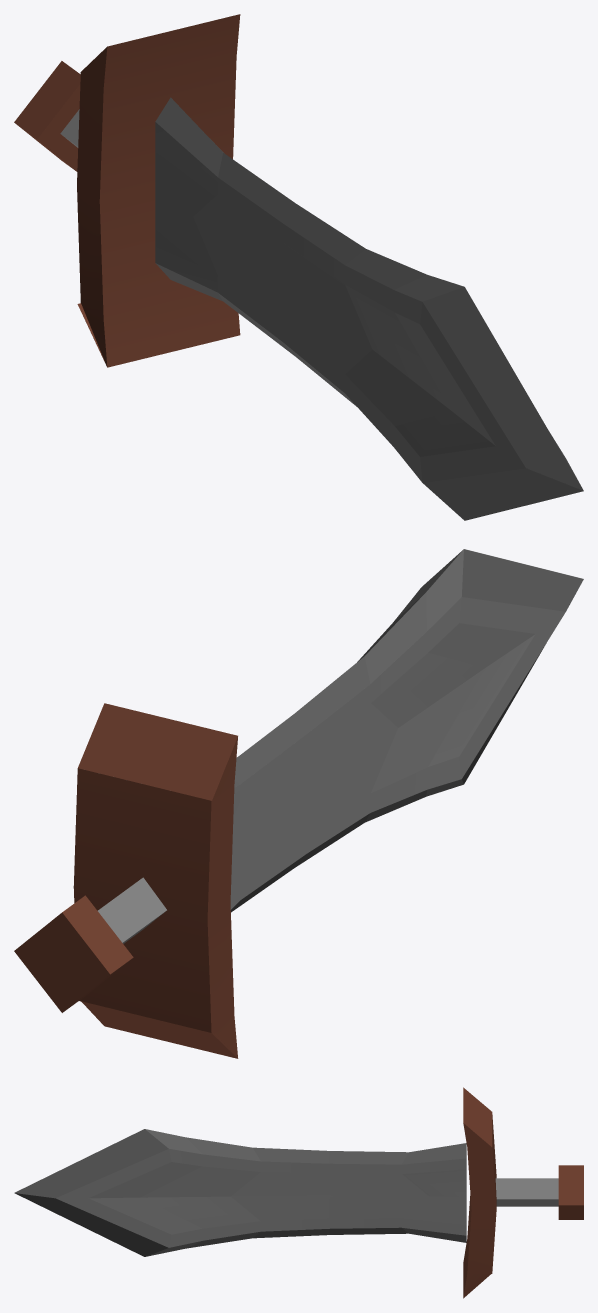
Rendered from Espada.fbx.
3 views of the same model, one above another, from view 1: azimuth 30°, elevation 25°; view 2: azimuth 150°, elevation 25°; view 3: azimuth 270°, elevation 25° (orthographic). The views are drawn at different scales.
Parts seen in each view (by area): view 1: Espada; view 2: Espada; view 3: Espada.
Part boxes in pixels (x1,y1,x2,y2): Espada: (14,14,583,520); Espada: (14,549,583,1058); Espada: (14,1087,583,1298).
Size of the model in its own units: 0.5037 by 1.13 by 3.32.
